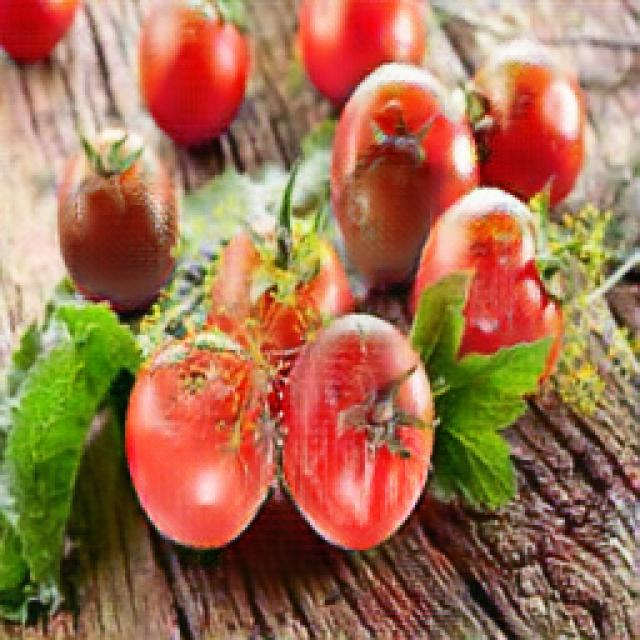overripe tomato: (282, 318, 438, 546), (415, 194, 578, 388), (59, 124, 182, 308)
